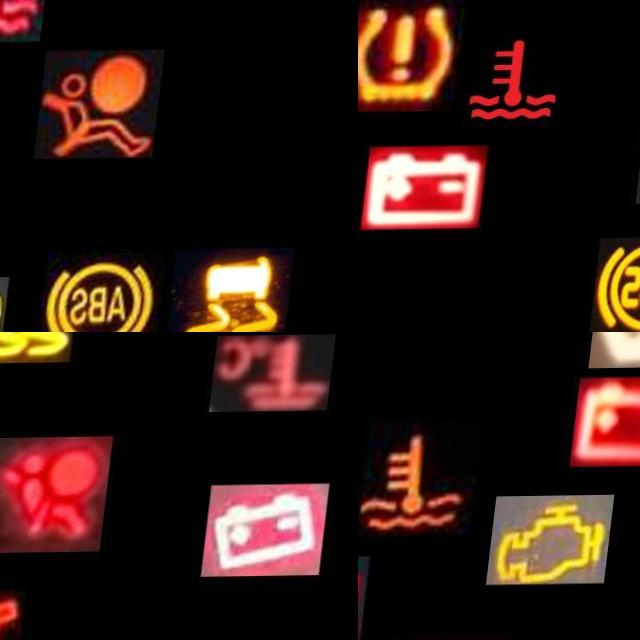Engine cooling system: (453, 21, 582, 140), (360, 422, 489, 538), (218, 336, 343, 413)
